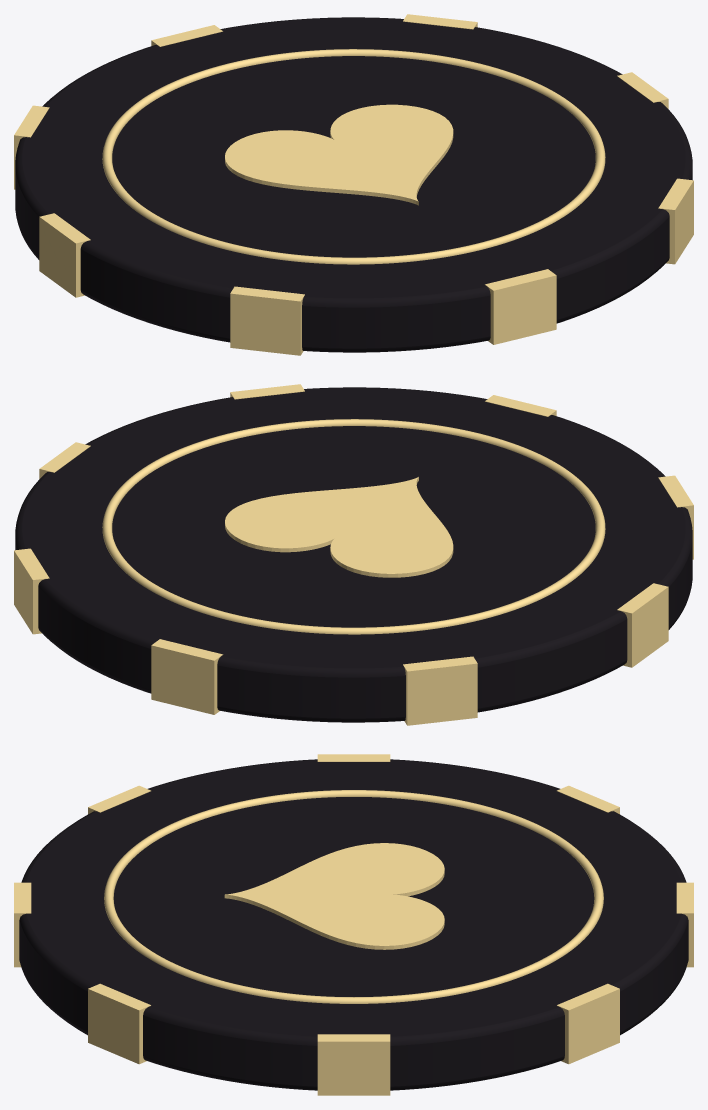
File: jeton-CTj2MMZm.glb
3 views of the same model, one above another, from view 1: azimuth 30°, elevation 25°; view 2: azimuth 150°, elevation 25°; view 3: azimuth 270°, elevation 25° (orthographic).
Visible parts, largest first — view 1: Jeton; view 2: Jeton; view 3: Jeton.
Boxes of the visible parts, <box> form: Jeton: <box>14,14,693,355</box>; Jeton: <box>14,384,693,725</box>; Jeton: <box>14,754,693,1095</box>.
Bounding box in the file's own units: 0.0394 × 0.00396 × 0.0394.
